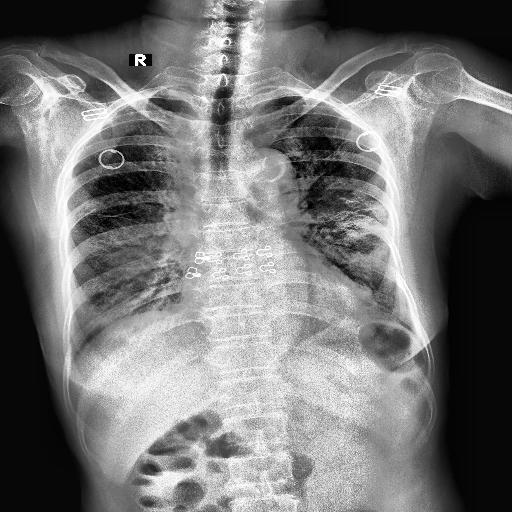0- Aortic enlargement: (244, 146, 298, 202), (233, 149, 295, 196), (248, 146, 292, 193)
13- Pulmonary fibrosis: (342, 196, 384, 212), (348, 226, 388, 234)
3- Cardiomegaly: (180, 270, 368, 314)
5- ILD: (309, 180, 390, 294), (110, 202, 176, 324)
6- Infiltration: (298, 185, 398, 309)
7- Lung Opacity: (287, 116, 400, 288), (72, 174, 188, 332), (88, 192, 176, 336), (298, 185, 398, 309)
